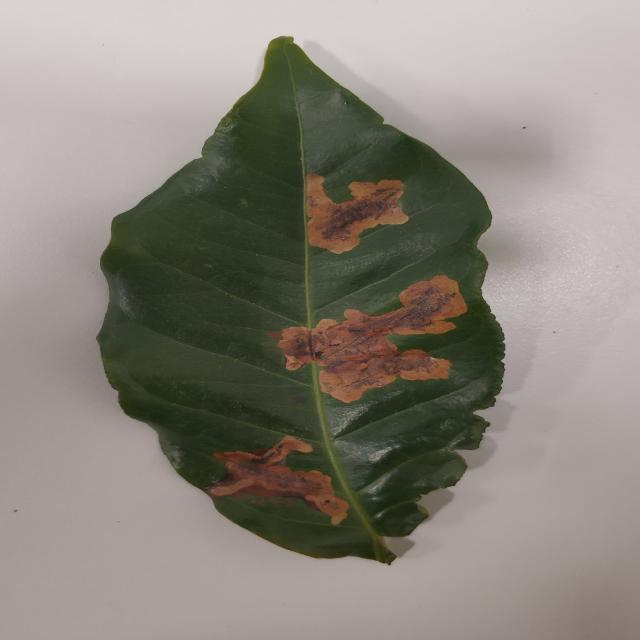Plaga-Minador: (95, 36, 505, 567)
